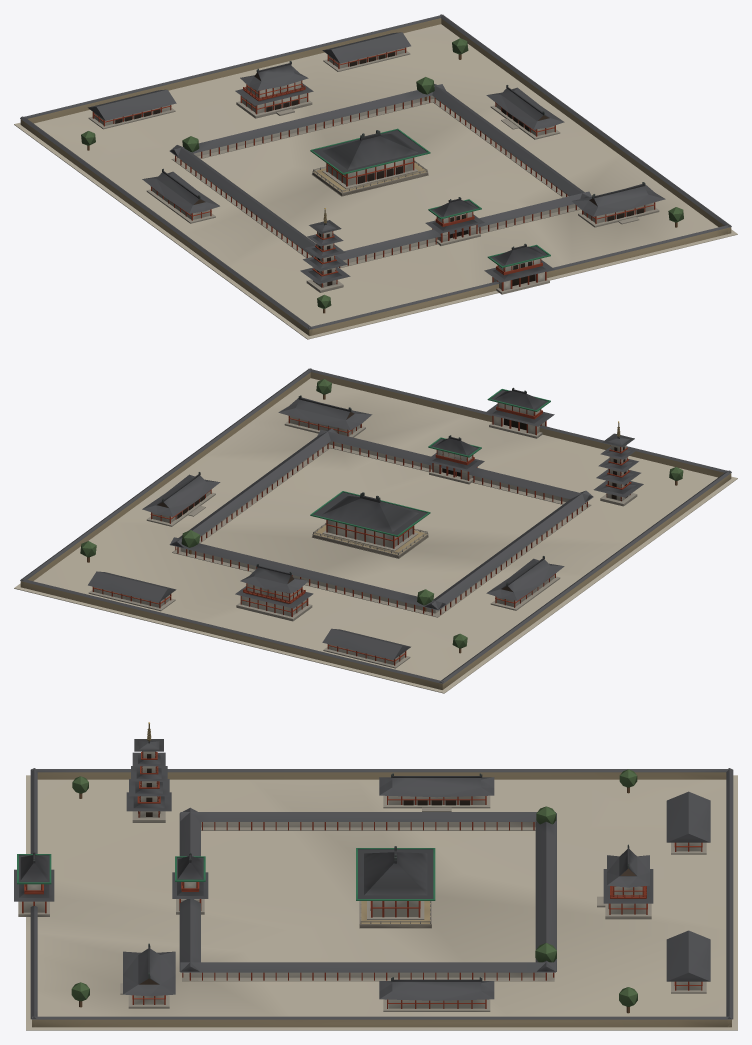
File: ximing-si.glb
3 renders of one model, top to bottom at view 1: azimuth 30°, elevation 25°; view 2: azimuth 150°, elevation 25°; view 3: azimuth 270°, elevation 25°, orthographic. The views are drawn at different scales.
Parts seen in each view (by area): view 1: p0_walls, p2_trees, p1_halls; view 2: p0_walls, p2_trees, p1_halls; view 3: p0_walls, p2_trees, p1_halls.
Part boxes in pixels (bbox=[...]): p0_walls: bbox=[14, 14, 737, 339]; p2_trees: bbox=[81, 32, 683, 313]; p1_halls: bbox=[88, 47, 659, 294]; p0_walls: bbox=[14, 368, 737, 693]; p2_trees: bbox=[80, 379, 683, 659]; p1_halls: bbox=[88, 402, 643, 668]; p0_walls: bbox=[26, 768, 737, 1030]; p2_trees: bbox=[14, 769, 710, 1013]; p1_halls: bbox=[18, 722, 706, 1011].
Size of the model in its own units: 220 by 38 by 264.
